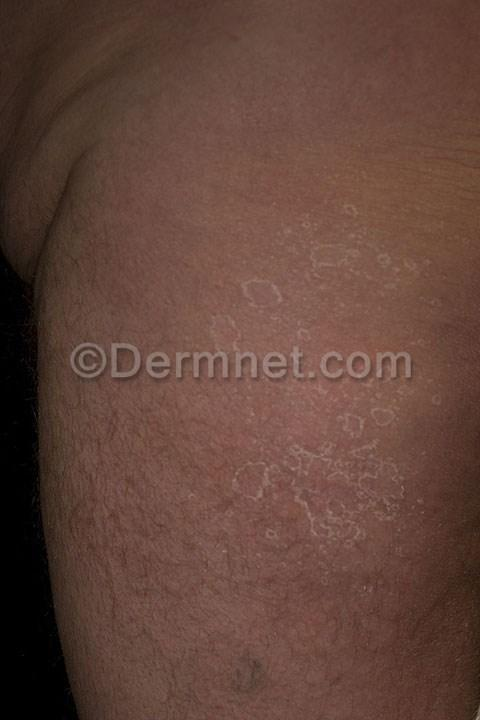Eczema: (259, 434, 393, 586), (182, 654, 284, 714)
